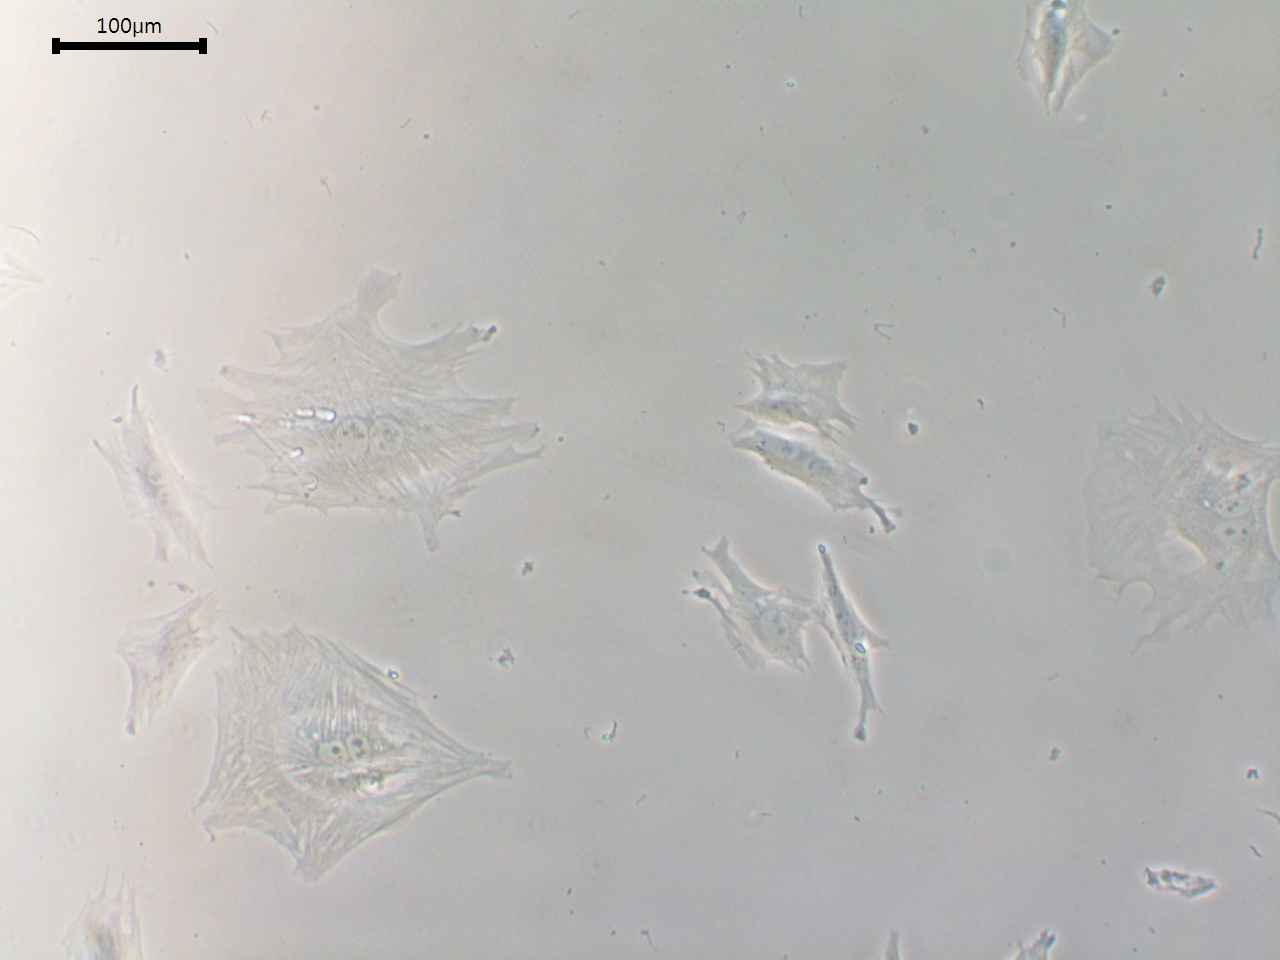dividing: (218, 253, 572, 553), (199, 603, 539, 882), (1057, 371, 1280, 673), (88, 382, 206, 577), (724, 424, 902, 536)
medium-polygonal: (808, 541, 901, 762)
medium-spread: (673, 529, 817, 690), (700, 340, 877, 430)
